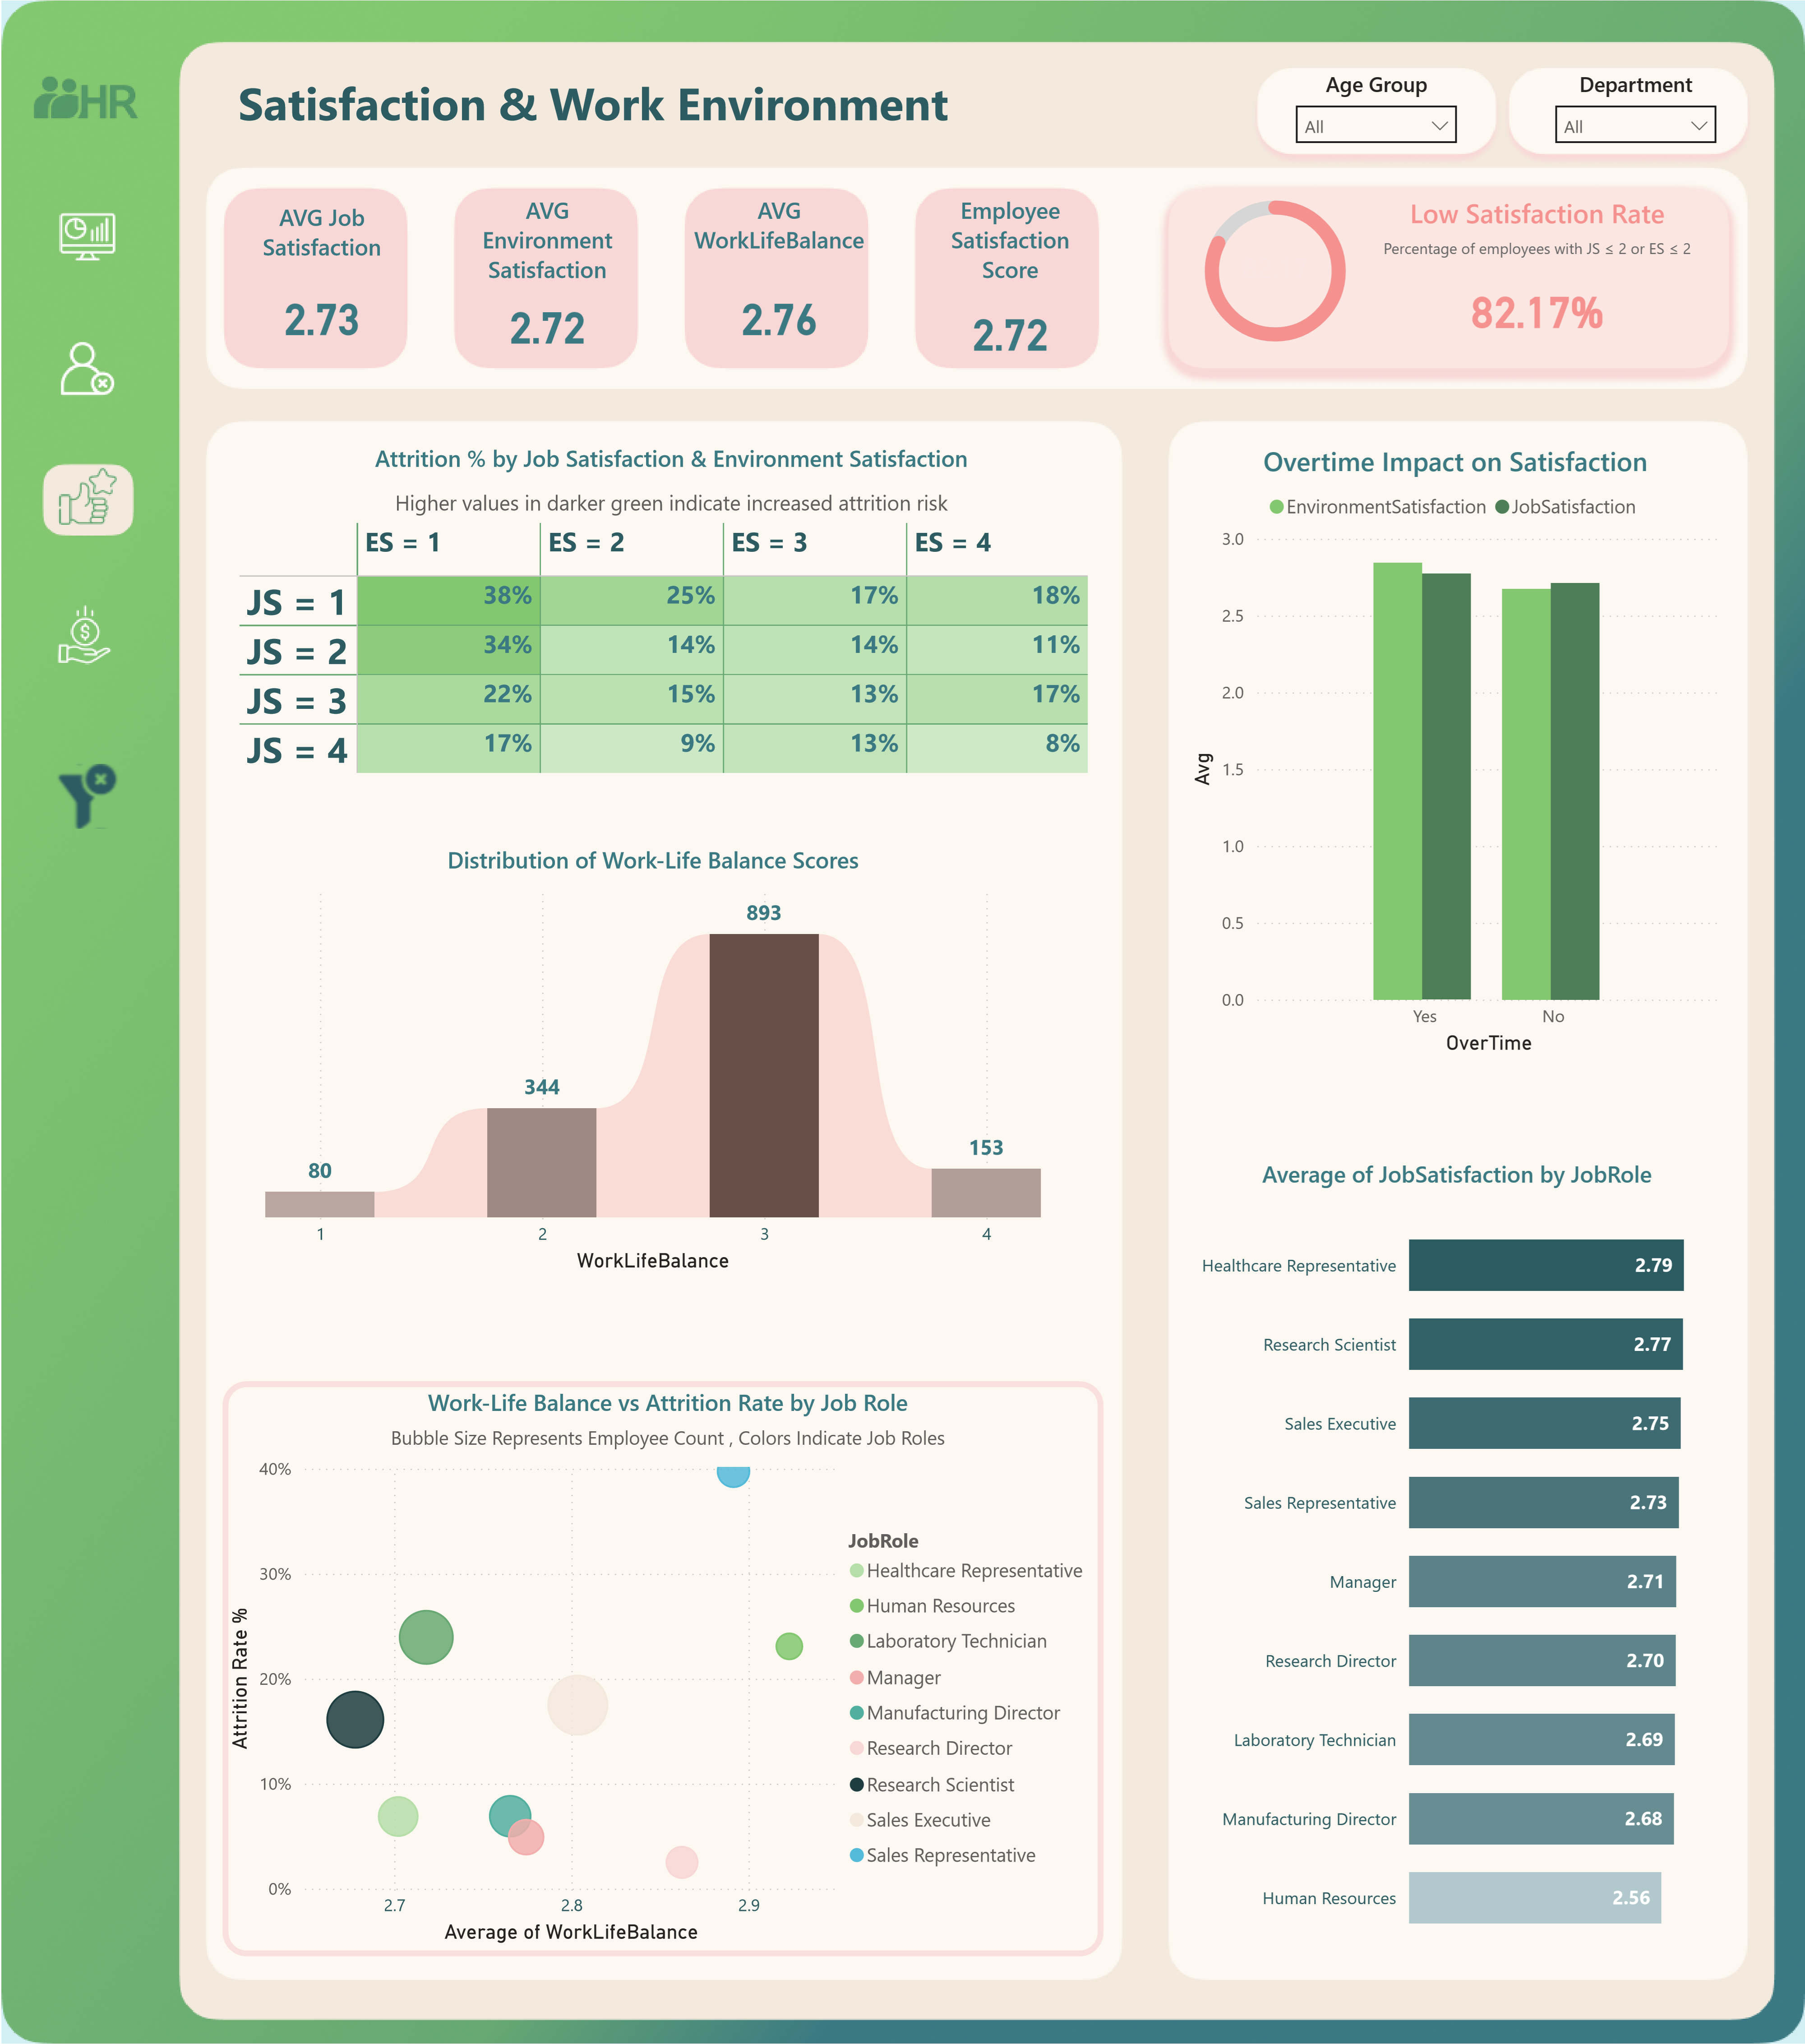

What the dashboard file says about the page in this screenshot:
{"tool":"powerbi","page":{"name":"Page 3","canvas":[1280,1450],"ordinal":2},"visuals":[{"type":"textbox","box":[163.3,45,538.3,65],"z":0},{"type":"cardVisual","title":"AVG Job Satisfaction","fields":{"Data":["Avg(Employees_Main.JobSatisfaction)"]},"box":[163.8,142.5,127.5,115],"z":1000},{"type":"cardVisual","title":"AVG Environment Satisfaction","fields":{"Data":["Avg(Employees_Main.EnvironmentSatisfaction)"]},"box":[321.2,137.5,132.5,115],"z":2000},{"type":"cardVisual","title":"AVG WorkLifeBalance","fields":{"Data":["Avg(Employees_Main.WorkLifeBalance)"]},"box":[485,137.5,133.8,125],"z":3000},{"type":"barChart","fields":{"Category":["Employees_Main.JobRole"],"Y":["Avg(Employees_Main.JobSatisfaction)"]},"box":[840,822,386,566],"z":4000},{"type":"pivotTable","title":"Attrition % by Job Satisfaction & Environment Satisfaction","fields":{"Rows":["Employees_Main.JobSat Label"],"Values":["Employees_Main.Attrition Rate %"],"Columns":["Employees_Main.EnvSat Label"]},"box":[168,314,614,244],"z":5000},{"type":"scatterChart","title":"Work-Life Balance vs Attrition Rate by Job Role","fields":{"X":["Avg(Employees_Main.WorkLifeBalance)"],"Y":["Employees_Main.Attrition Rate %"],"Series":["Employees_Main.JobRole"],"Size":["CountNonNull(Employees_Main.Employee_ID)"]},"box":[156.7,980,625,408.3],"z":6000},{"type":"cardVisual","title":"Low Satisfaction Rate","fields":{"Data":["Employees_Main.Low Satisfaction %"]},"box":[966.2,138,247.9,115.5],"z":7000},{"type":"slicer","title":"Department","fields":{"Values":["Employees_Main.Department"]},"box":[1092.5,49.3,134.3,58.2],"z":8000},{"type":"slicer","title":"Age Group","fields":{"Values":["Employees_Main.Age Group"]},"box":[909,49.3,134.3,58.2],"z":9000},{"type":"clusteredColumnChart","title":"Overtime Impact on Satisfaction","fields":{"Category":["Employees_Main.OverTime"],"Y":["Avg(Employees_Main.EnvironmentSatisfaction)","Avg(Employees_Main.JobSatisfaction)"]},"box":[838.8,313.8,386.2,438.8],"z":10000},{"type":"columnChart","title":"Distribution of Work-Life Balance Scores","fields":{"Y":["CountNonNull(Employees_Main.Employee_ID)"],"Category":["Employees_Main.WorkLifeBalance"]},"box":[162.7,598.5,600,309],"z":11000},{"type":"cardVisual","title":"Employee Satisfaction Score","fields":{"Data":["Employees_Main.Employee Satisfaction Score"]},"box":[648.8,137.5,133.8,125],"z":12000},{"type":"circleCard68ECC0CB90BE47B3962072B48765978B","title":"Low Satisfaction Rate","fields":{"measure":["Employees_Main.Low Satisfaction %"]},"box":[849.3,136.6,116.9,115.5],"z":13000},{"type":"pageNavigator","box":[15.7,110,91.4,421.4],"z":14000},{"type":"actionButton","box":[34.4,536.2,54,56.4],"z":15000}]}

Visuals, with their boxes in screenshot pixels (x1, y1, x2, y2), scaled from the page's 1280x1450 canvas onto the 1805x2044 screenshot:
textbox: [x1=230, y1=64, x2=989, y2=155]
"AVG Job Satisfaction" cardVisual: [x1=231, y1=201, x2=411, y2=363]
"AVG Environment Satisfaction" cardVisual: [x1=453, y1=194, x2=640, y2=356]
"AVG WorkLifeBalance" cardVisual: [x1=684, y1=194, x2=872, y2=370]
barChart - Employees_Main.JobRole x Avg(Employees_Main.JobSatisfaction): [x1=1185, y1=1159, x2=1729, y2=1956]
"Attrition % by Job Satisfaction & Environment Satisfaction" pivotTable: [x1=237, y1=443, x2=1103, y2=786]
"Work-Life Balance vs Attrition Rate by Job Role" scatterChart: [x1=221, y1=1382, x2=1102, y2=1957]
"Low Satisfaction Rate" cardVisual: [x1=1362, y1=194, x2=1712, y2=357]
"Department" slicer: [x1=1541, y1=69, x2=1730, y2=152]
"Age Group" slicer: [x1=1282, y1=69, x2=1471, y2=152]
"Overtime Impact on Satisfaction" clusteredColumnChart: [x1=1183, y1=442, x2=1727, y2=1061]
"Distribution of Work-Life Balance Scores" columnChart: [x1=230, y1=844, x2=1076, y2=1279]
"Employee Satisfaction Score" cardVisual: [x1=915, y1=194, x2=1103, y2=370]
"Low Satisfaction Rate" circleCard68ECC0CB90BE47B3962072B48765978B: [x1=1198, y1=193, x2=1362, y2=356]
pageNavigator: [x1=22, y1=155, x2=151, y2=749]
actionButton: [x1=49, y1=756, x2=125, y2=835]
